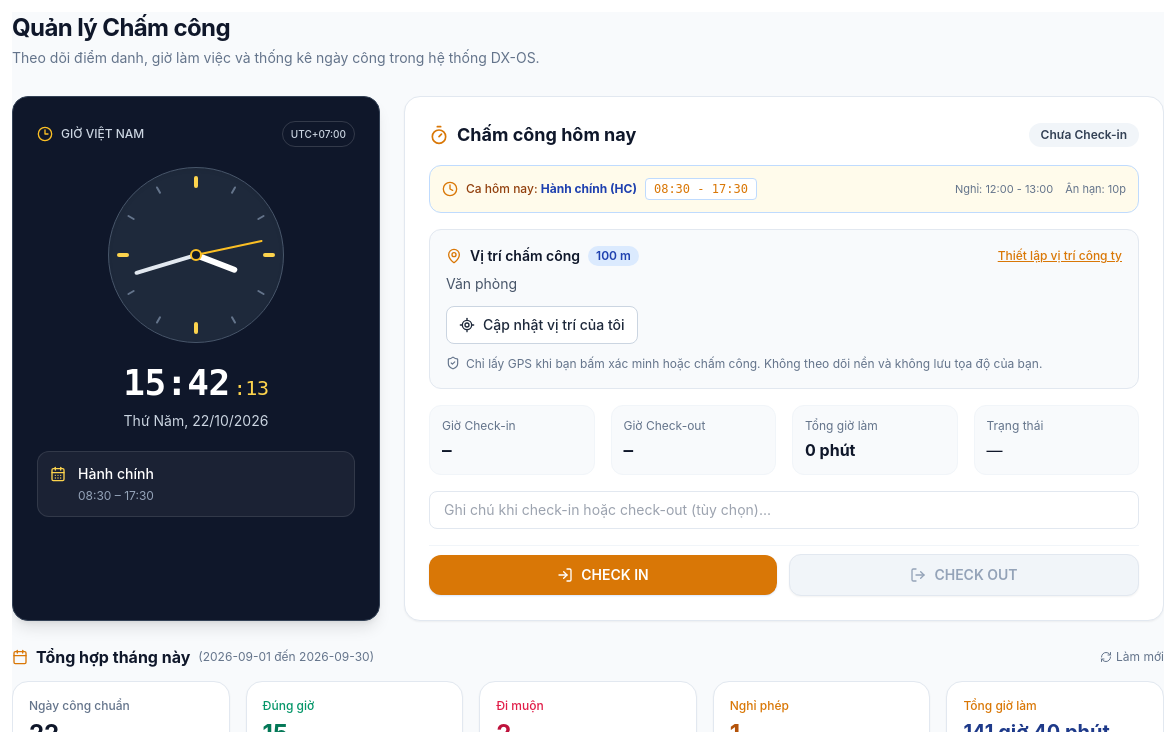
Scenario: AttendancePage Component & User Flows › 15. managers save the selected Google Maps pin without manual coordinates or client radius
Check: the text "Văn phòng" is shown, box [446,275,517,292]
Click the button "Thiết lập vị trí công ty".
click(1060, 256)  # box [998,248,1122,264]
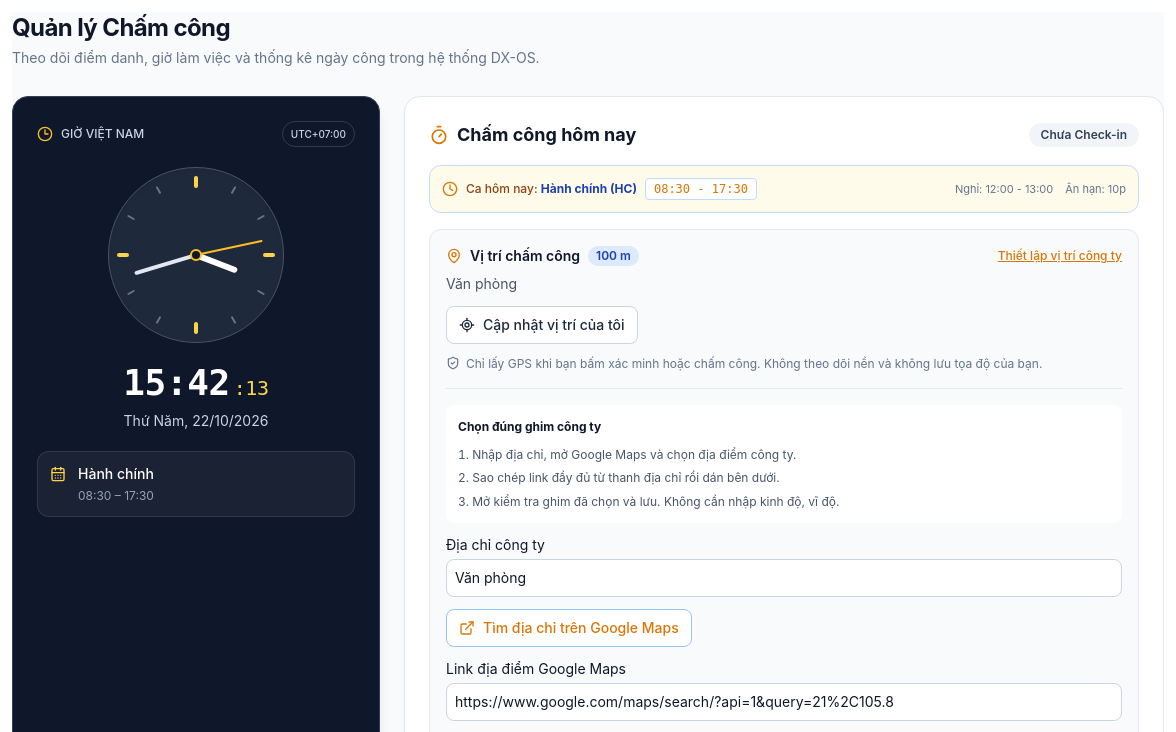
Replace the text in the field labelled "Địa chỉ công ty" with "Trụ sở" at (784, 578), box [446,559,1122,597]
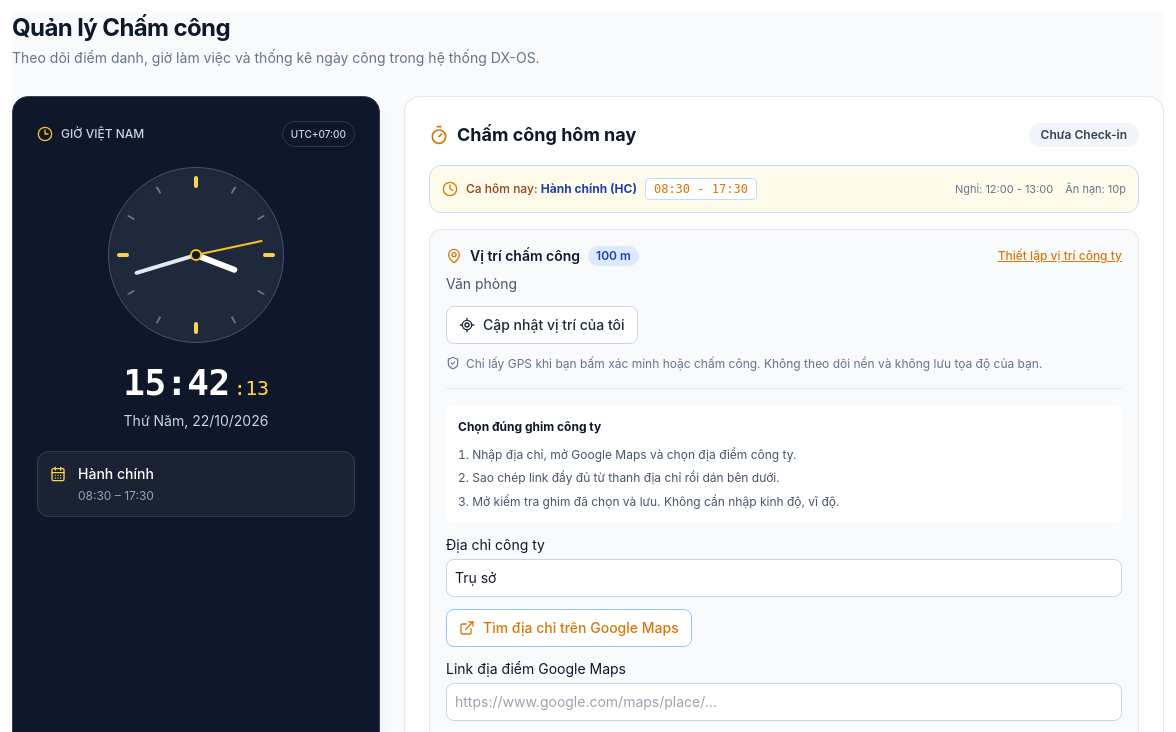
Type "https://www.google.com/maps/place/Office/data=!3d21!4d105.8" into the field labelled "Link địa điểm Google Maps".
click(784, 702); type("https://www.google.com/maps/place/Office/data=!3d21!4d105.8")  # box [446,683,1122,721]
(page scrolled)
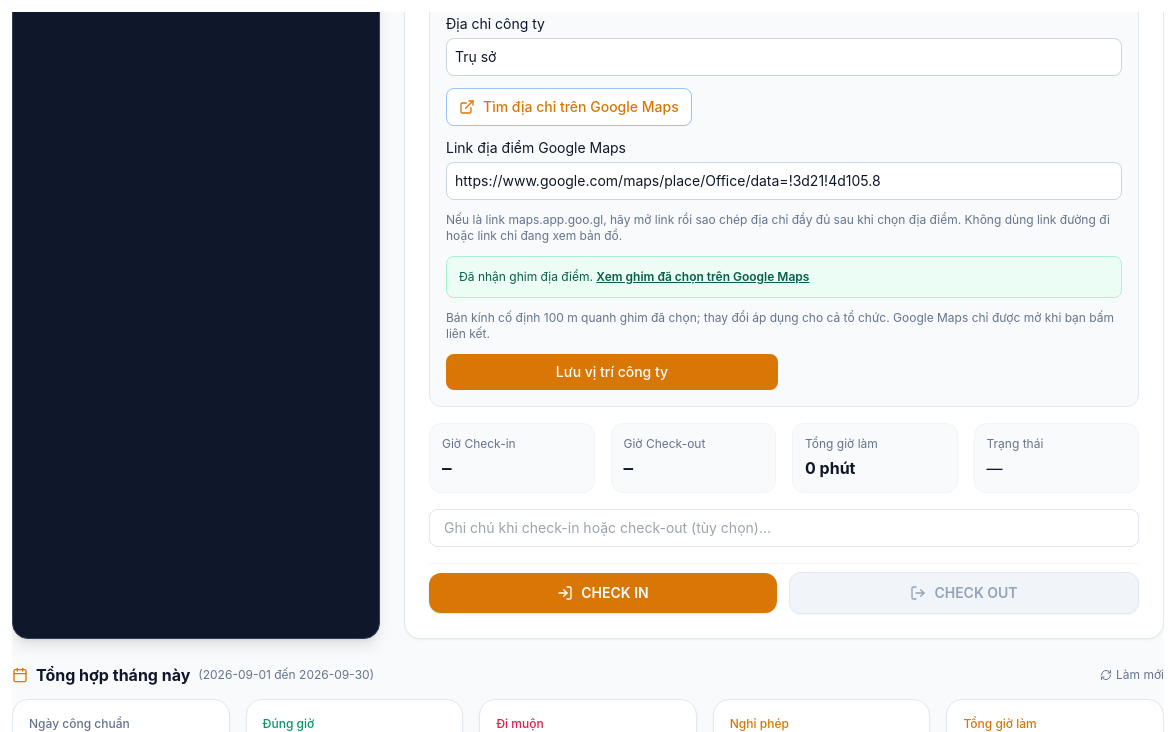
Click the button "Lưu vị trí công ty".
click(612, 372)  # box [446,354,778,390]
(page scrolled)
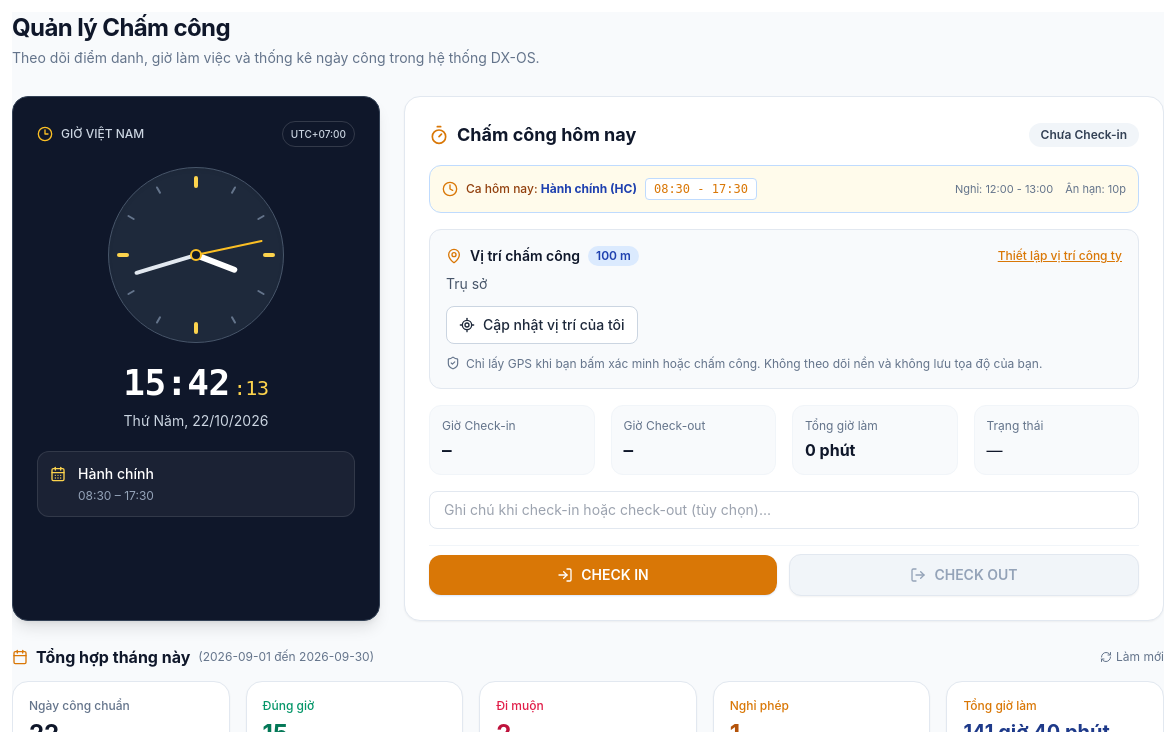
Check: the text "Trụ sở" is shown, box [446,275,488,292]
